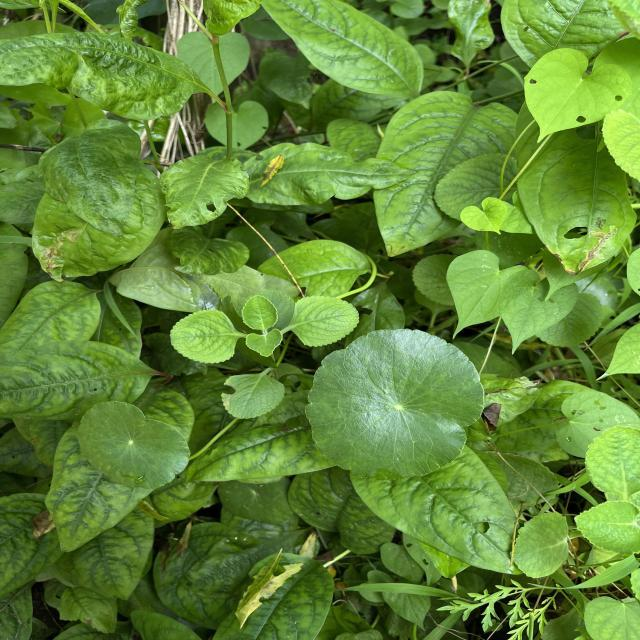Bacopa monnieri: (302, 325, 487, 482), (74, 398, 194, 492)
